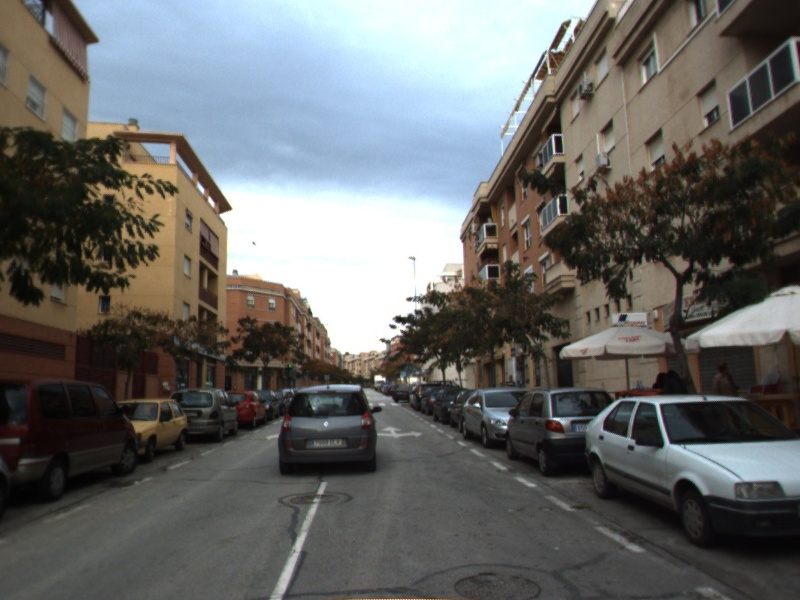STRAIGHT_LEFT_RIGHT: (375, 424, 425, 440)
